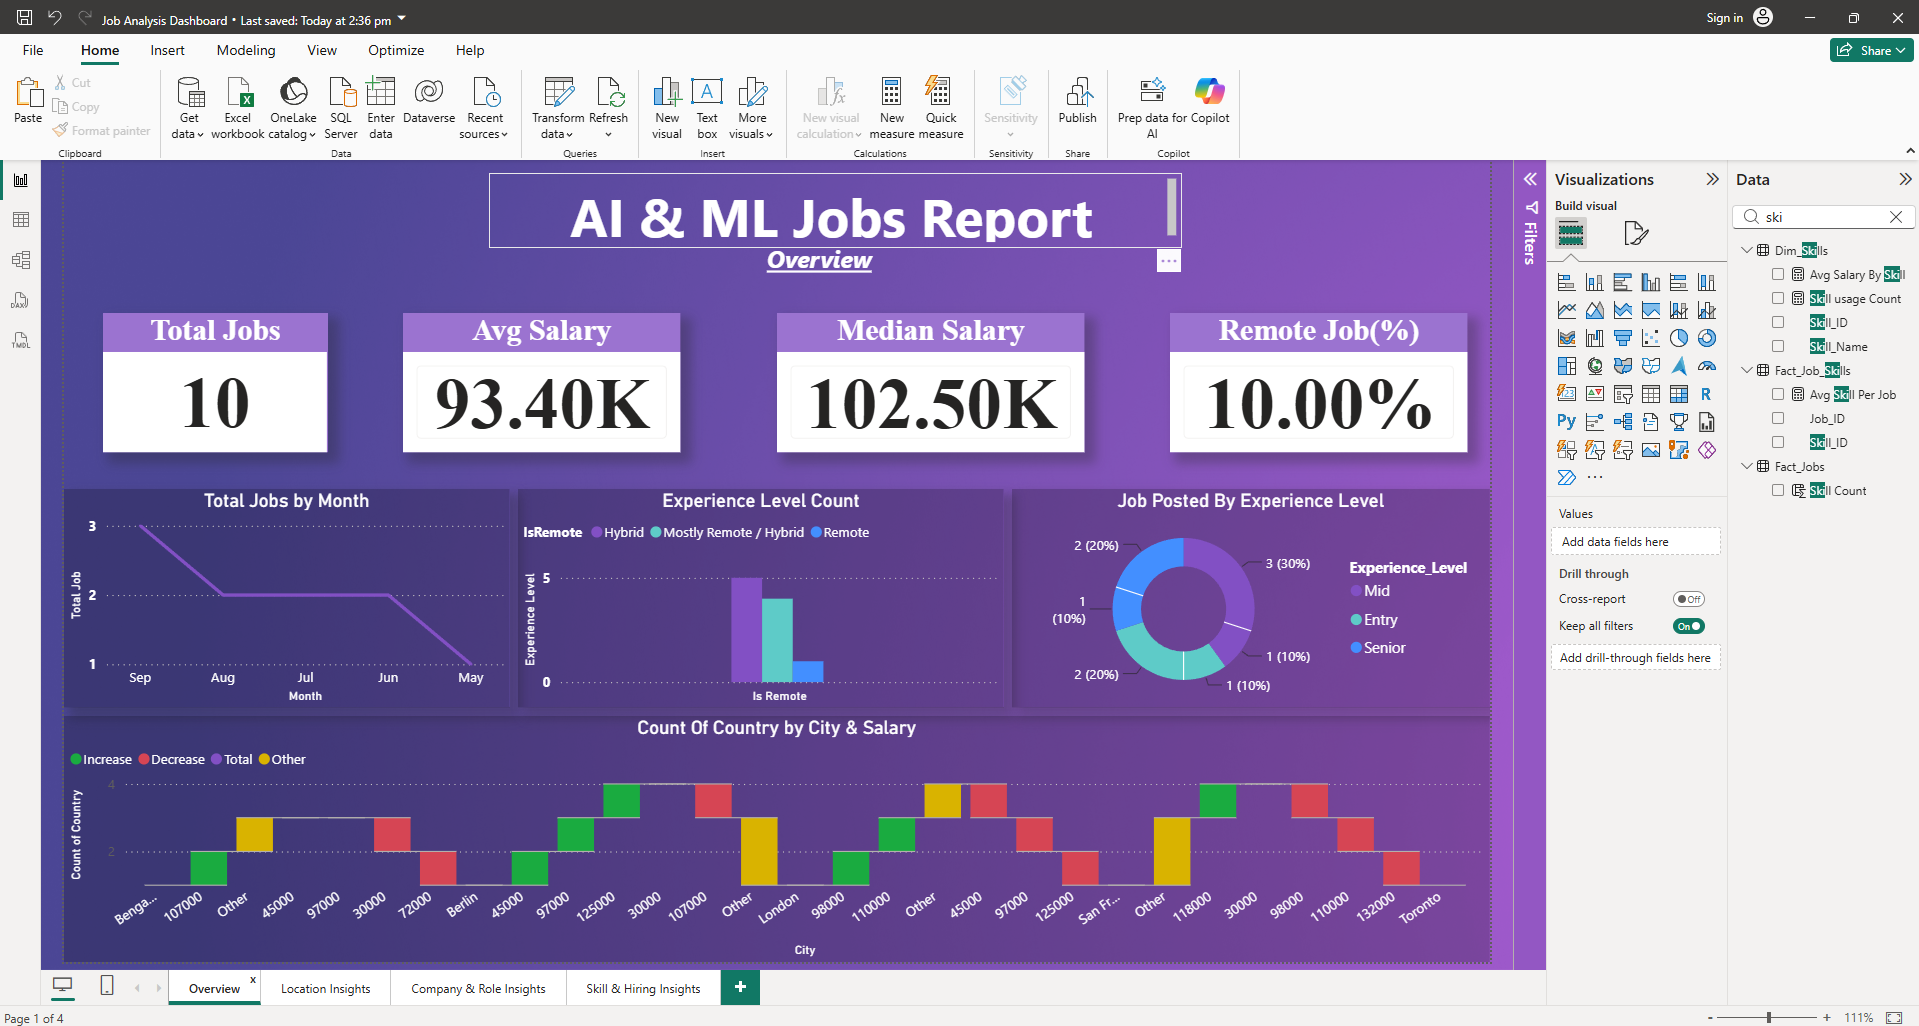

Layout of this report page (visuals, bound fields, positions):
{"tool":"powerbi","page":{"name":"Overview","canvas":[1280,720],"ordinal":0},"visuals":[{"type":"textbox","box":[381.5,11.7,622.1,67.3],"z":0},{"type":"cardVisual","title":"Total Jobs","fields":{"Data":["Fact_Jobs.Total Jobs"]},"box":[35.5,137.3,201.8,125.5],"z":1000},{"type":"cardVisual","title":"Avg Salary","fields":{"Data":["Fact_Jobs.Avg Salary"]},"box":[304.5,137.3,249.1,125.5],"z":2000},{"type":"cardVisual","title":"Median Salary","fields":{"Data":["Fact_Jobs.Median Salary"]},"box":[640,137.3,276.4,125.5],"z":3000},{"type":"cardVisual","title":"Remote Job(%)","fields":{"Data":["Fact_Jobs.Remote Job(%)"]},"box":[992.7,137.3,267.3,125.5],"z":4000},{"type":"lineChart","title":"Total Jobs by Month ","fields":{"Category":["Dim_Date.Month Name"],"Y":["Fact_Jobs.Total Jobs"]},"box":[0,295.5,400,196.4],"z":5000},{"type":"clusteredColumnChart","title":"Experience Level Count","fields":{"Y":["CountNonNull(Fact_Jobs.Employment_Type)"],"Series":["Fact_Jobs.IsRemote"]},"box":[407.3,295.5,436.4,196.4],"z":6000},{"type":"donutChart","title":"Job Posted By Experience Level ","fields":{"Series":["Fact_Jobs.IsRemote"],"Category":["Fact_Jobs.Experience_Level"],"Y":["Fact_Jobs.Total Jobs"]},"box":[850.9,295.5,429.1,196.4],"z":7000},{"type":"waterfallChart","title":"Count Of Country by City & Salary","fields":{"Category":["Dim_Locations.City"],"Breakdown":["Fact_Jobs.Salary_USD"],"Y":["CountNonNull(Dim_Locations.Country)"]},"box":[0,499.1,1280,220.9],"z":8000},{"type":"textbox","box":[553.6,69.1,248.2,42.7],"z":9000}]}

Visuals, with their boxes on the page's 1280x720 design canvas (x1, y1, x2, y2). These are canvas units, not pixel positions in the 1919x1026 screenshot, which may show the page scaled, cropped or inside an application window:
textbox: <region>382, 12, 1004, 79</region>
"Total Jobs" cardVisual: <region>36, 137, 237, 263</region>
"Avg Salary" cardVisual: <region>304, 137, 554, 263</region>
"Median Salary" cardVisual: <region>640, 137, 916, 263</region>
"Remote Job(%)" cardVisual: <region>993, 137, 1260, 263</region>
"Total Jobs by Month " lineChart: <region>0, 296, 400, 492</region>
"Experience Level Count" clusteredColumnChart: <region>407, 296, 844, 492</region>
"Job Posted By Experience Level " donutChart: <region>851, 296, 1280, 492</region>
"Count Of Country by City & Salary" waterfallChart: <region>0, 499, 1280, 720</region>
textbox: <region>554, 69, 802, 112</region>
